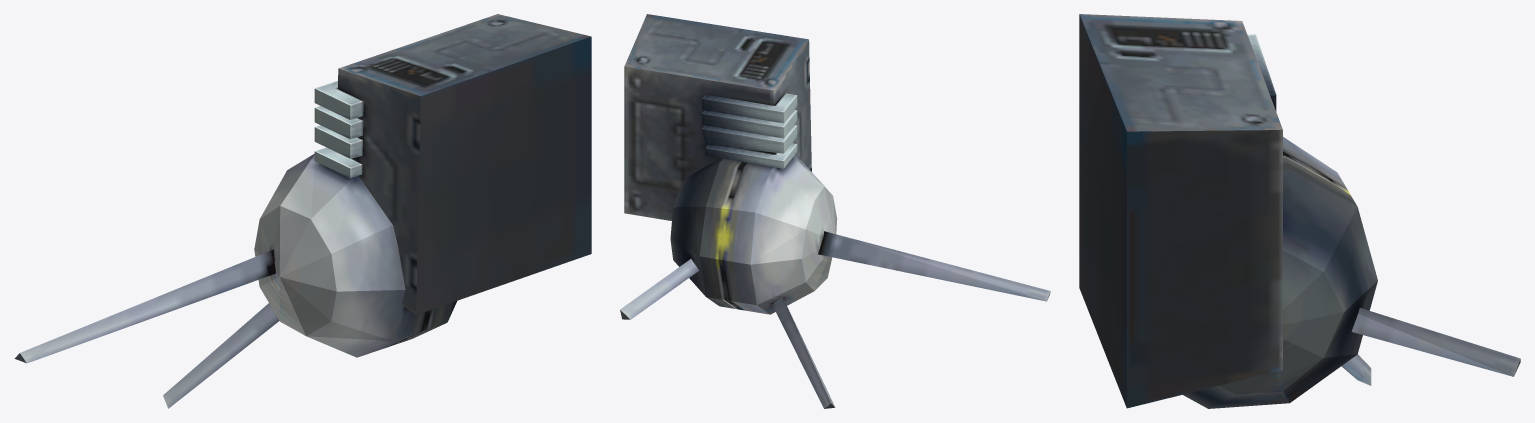
The model's file is TAAIRPACK.obj.
The picture shows the model from 3 angles, left to right: view 1: azimuth 30°, elevation 25°; view 2: azimuth 150°, elevation 25°; view 3: azimuth 270°, elevation 25°; orthographic projection. The views are drawn at different scales.
Parts seen in each view (by area): view 1: Node 0; view 2: Node 0; view 3: Node 0.
Part boxes in pixels (bbox=[...]): Node 0: bbox=[14, 14, 591, 408]; Node 0: bbox=[620, 14, 1050, 408]; Node 0: bbox=[1079, 14, 1520, 408].
Bounding box in the file's own units: 1.18 × 0.74 × 0.65.
Materials: 1 (1 with a texture image).
